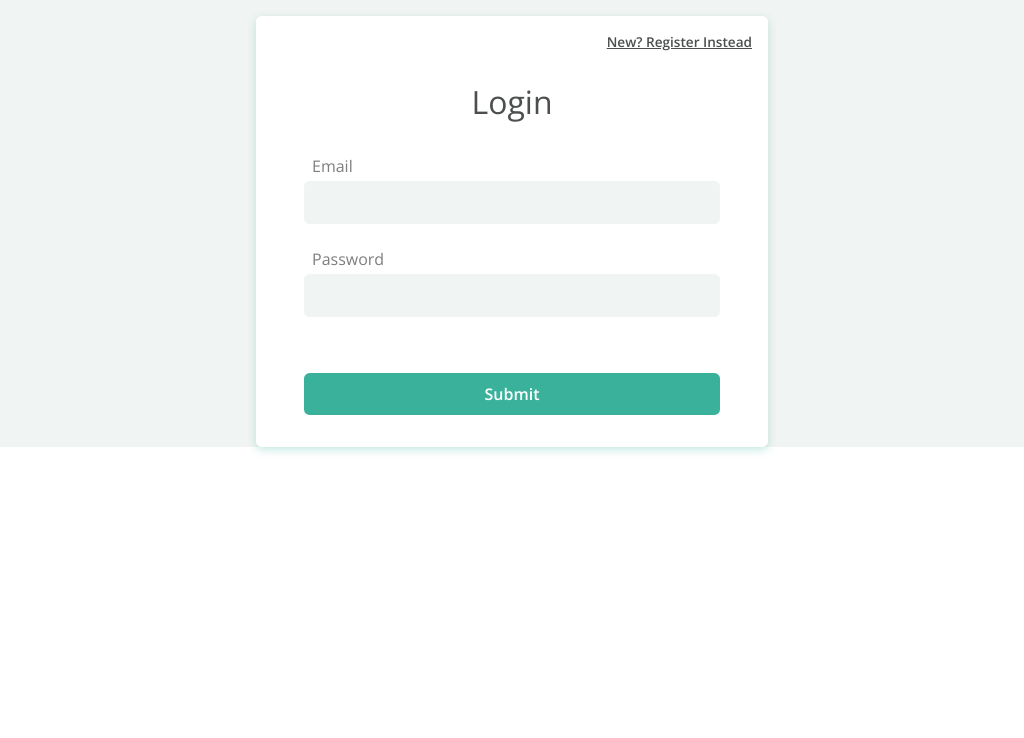
Test: Auth page component › Should change to login mode on btn click
The image size is (1024, 738).
Click the link "New? Register Instead": (679, 42) x1=607 y1=32 x2=752 y2=51
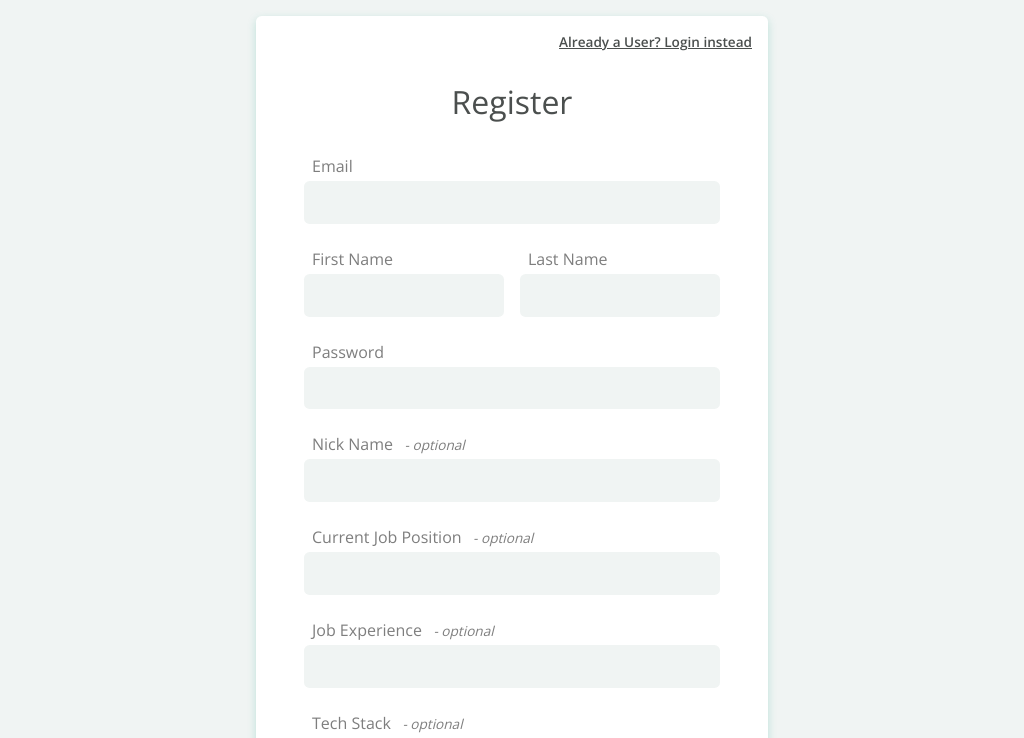
Click the link "New? Register Instead": (656, 42) x1=559 y1=32 x2=752 y2=51
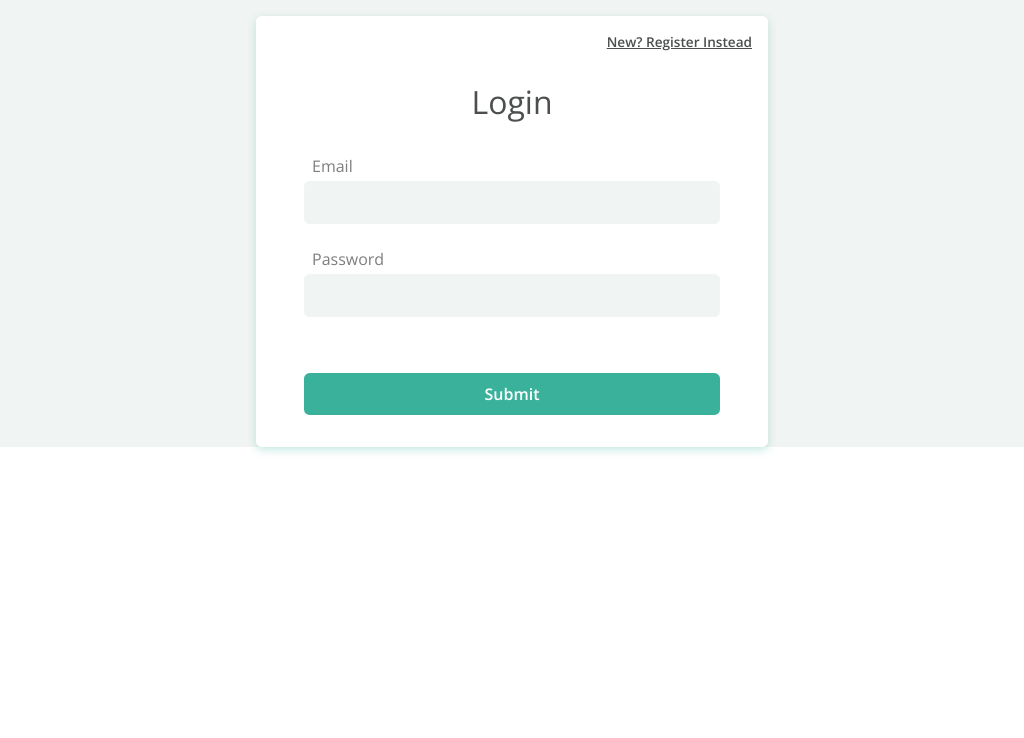
Result: the heading "Login" is shown at x1=472 y1=80 x2=552 y2=123
